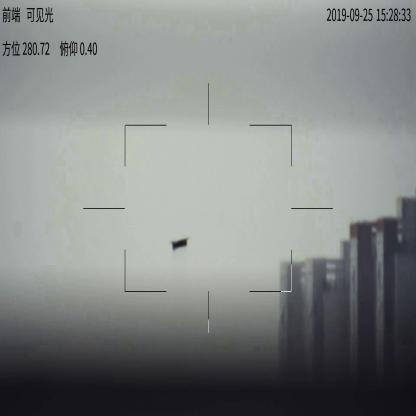uav: (172, 237, 190, 251)
